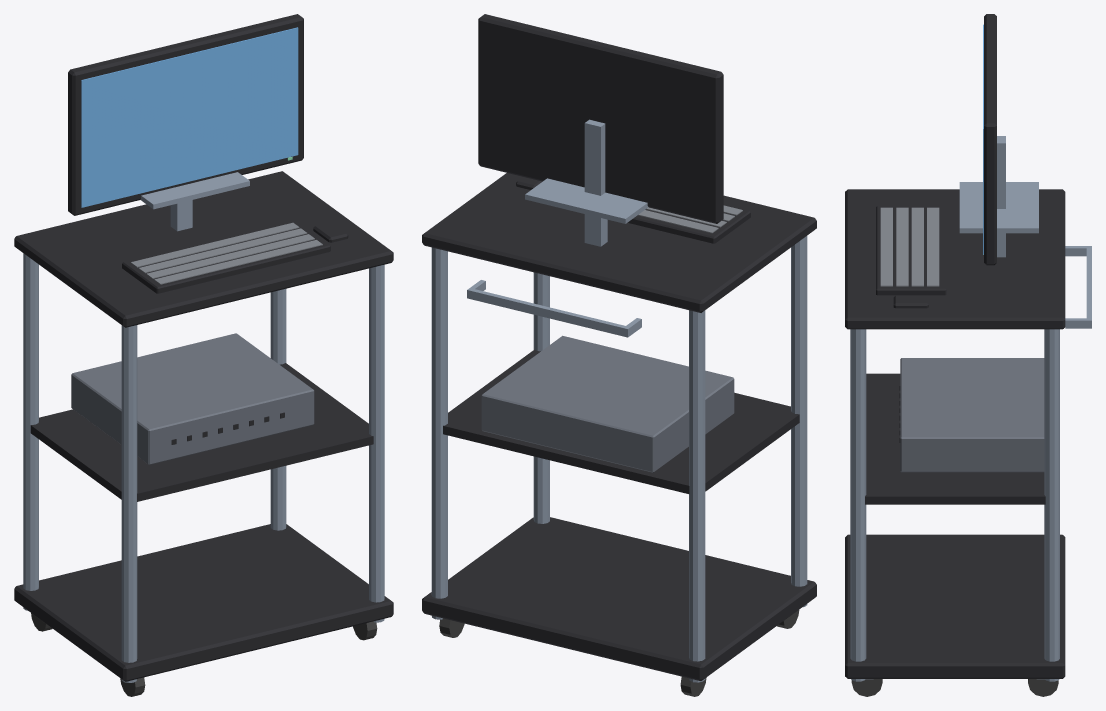
The model's file is crash_cart.fbx.
3 renders of one model, left to right at view 1: azimuth 30°, elevation 25°; view 2: azimuth 150°, elevation 25°; view 3: azimuth 270°, elevation 25°, orthographic. The views are drawn at different scales.
Parts seen in each view (by area): view 1: Cart, Display; view 2: Cart; view 3: Cart.
Boxes of the visible parts, x1,y1,x2,y2 form: Cart: (14,14,393,696); Display: (81,27,298,207); Cart: (422,14,816,696); Cart: (845,14,1091,696).
Bounding box in the file's own units: 0.7 × 1.43 × 0.56.
